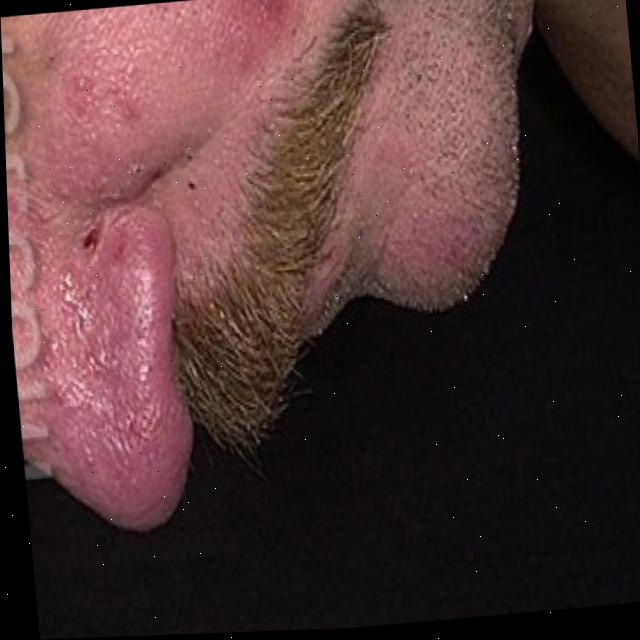Rosacea: (47, 0, 339, 140), (9, 229, 139, 469)
